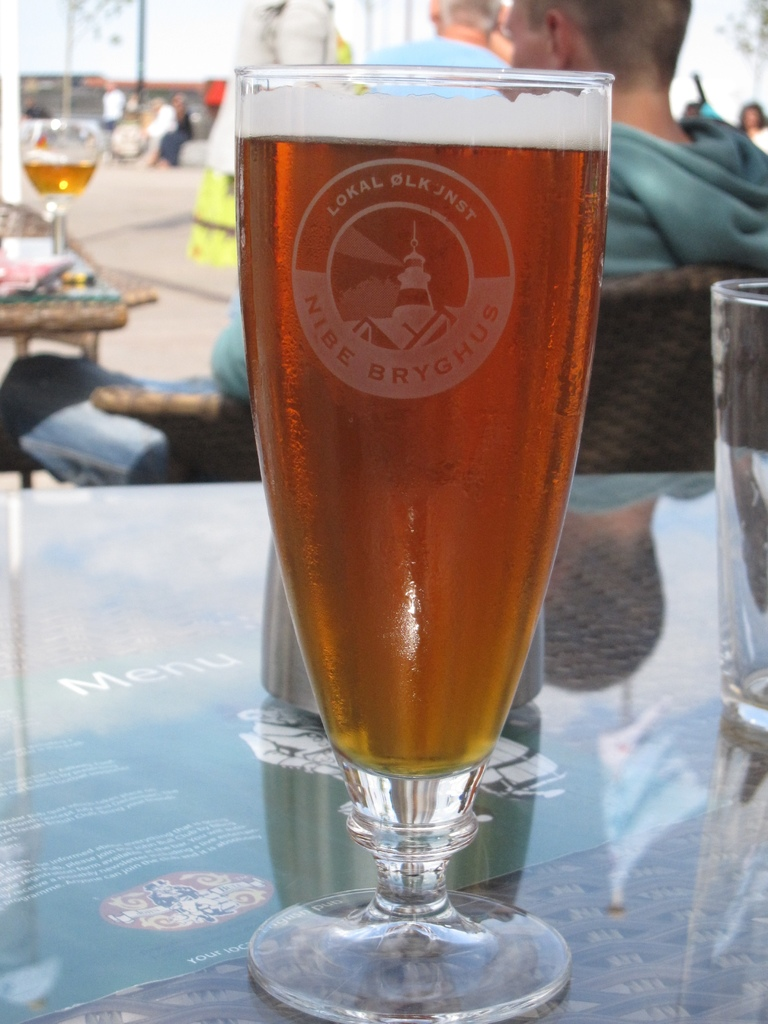Beer: (258, 111, 610, 756)
